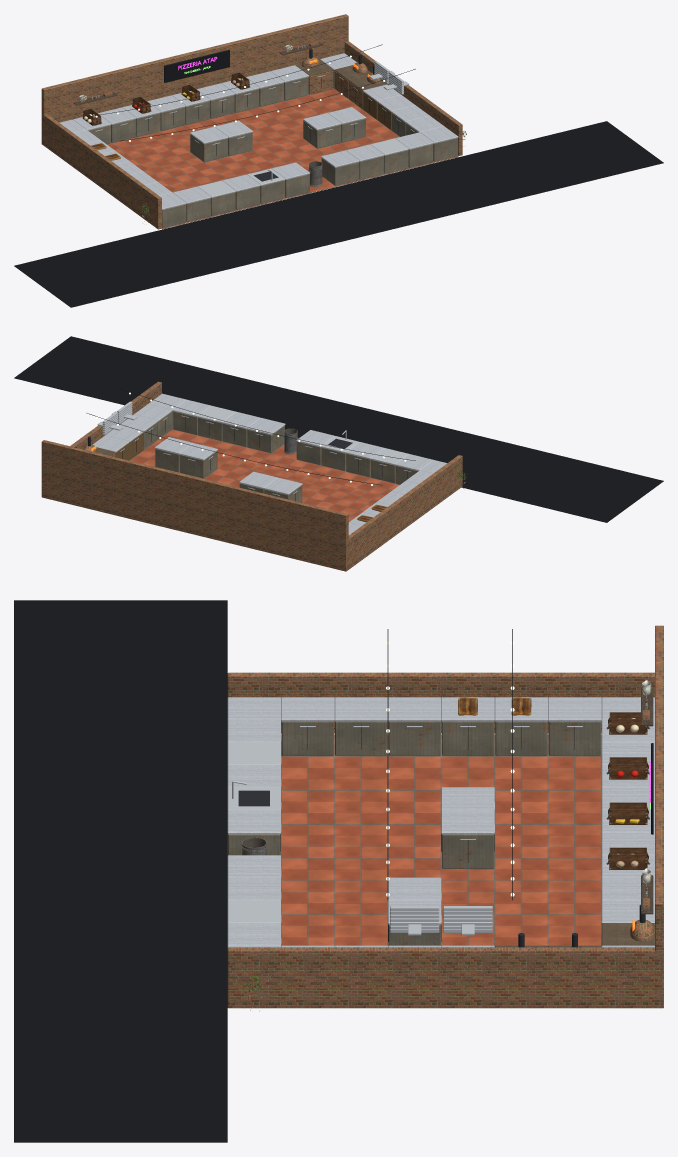
The model's file is pizza.glb.
The picture shows the model from 3 angles, top to bottom: view 1: azimuth 30°, elevation 25°; view 2: azimuth 150°, elevation 25°; view 3: azimuth 270°, elevation 25°; orthographic projection. The views are drawn at different scales.
Visible parts, largest first — view 1: statis; view 2: statis; view 3: statis, rana_0, rana_1.
Part boxes in pixels (box(x1,y1,x2,y2)): statis: box(14, 14, 663, 307); statis: box(14, 336, 663, 571); statis: box(14, 600, 663, 1142); rana_0: box(443, 906, 492, 932); rana_1: box(390, 906, 439, 932).
Size of the model in its own units: 28.8 by 2.67 by 14.6.
Materials: 40 (27 with a texture image).
